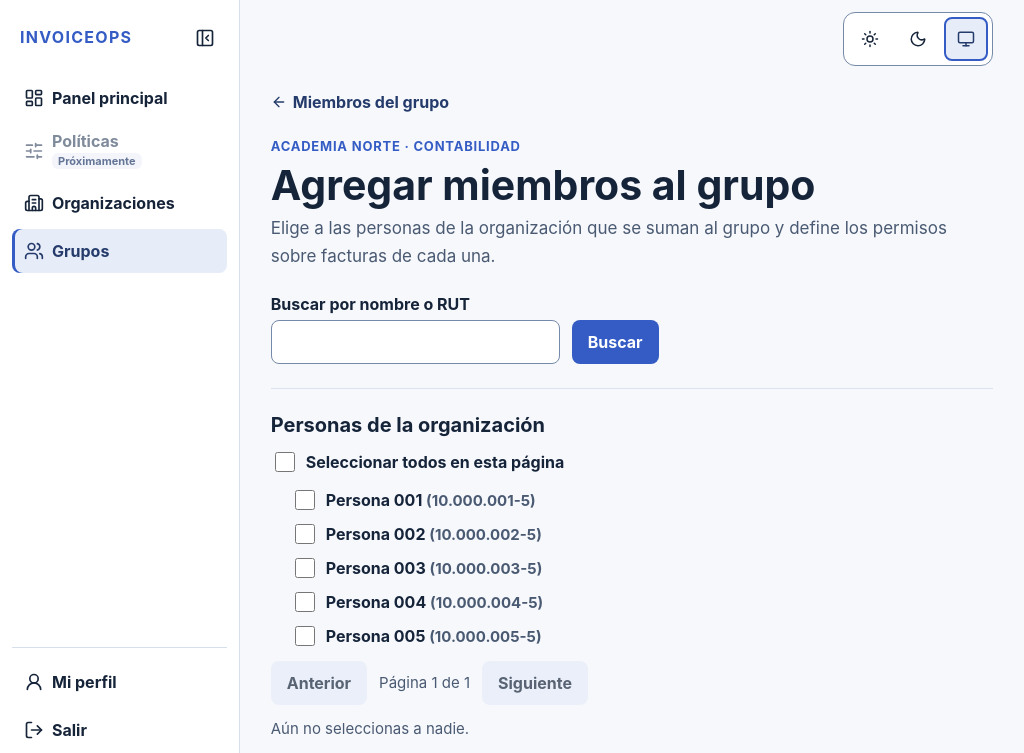
Test: AddMembersForm pre-check (CR-312/CR-313) › clears the pruned message when the selection changes
Click the checkbox labelled "Persona 001 (10.000.001-5)" at (305, 500), box [295,490,315,510]
(page scrolled)
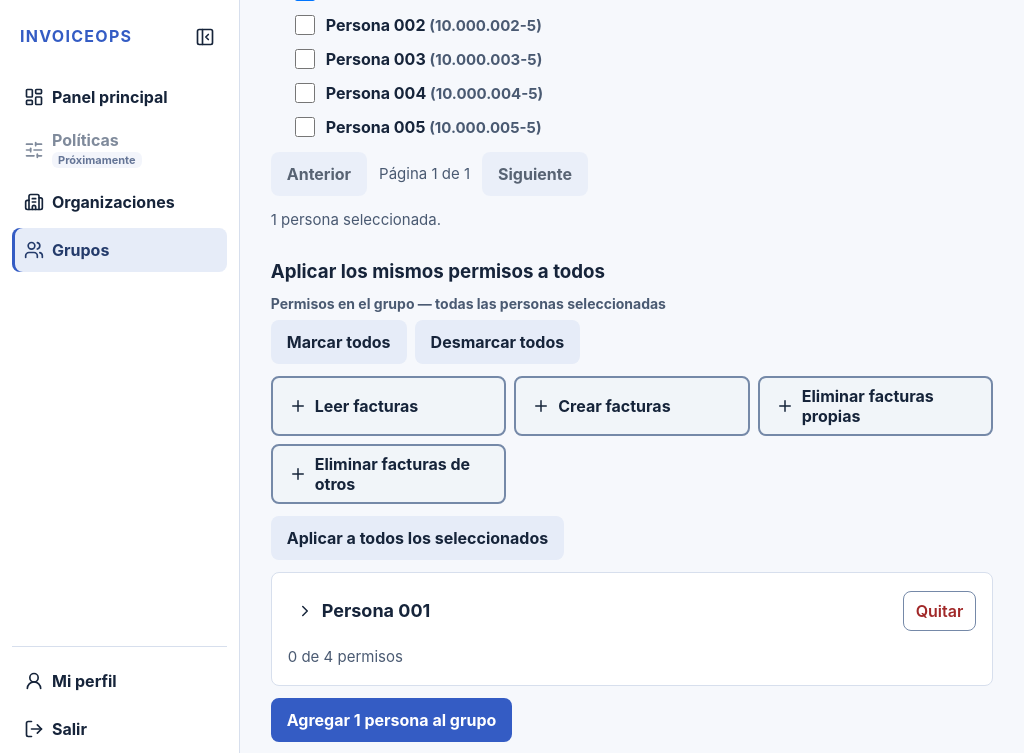
Click the button "Agregar 1 persona al grupo" at (392, 720), box [271,698,512,742]
(page scrolled)
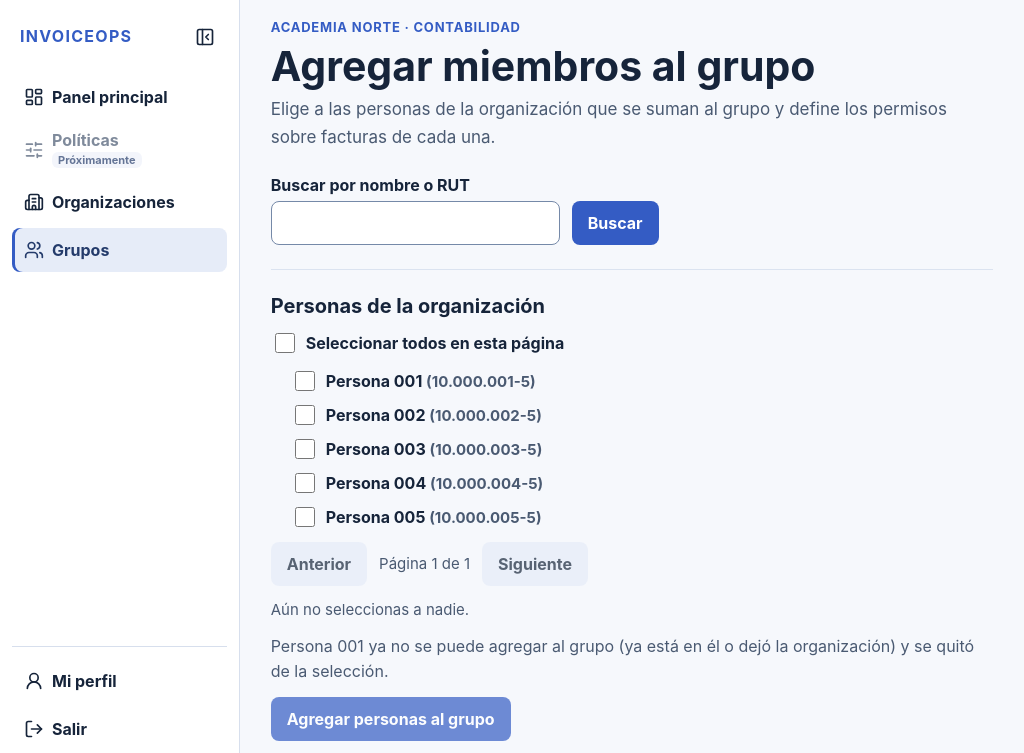
Now the text "Persona 001 ya no se puede agregar al grupo" is shown, box [271,634,993,685]
Click the checkbox labelled "Persona 002 (10.000.002-5)" at (305, 415), box [295,405,315,425]
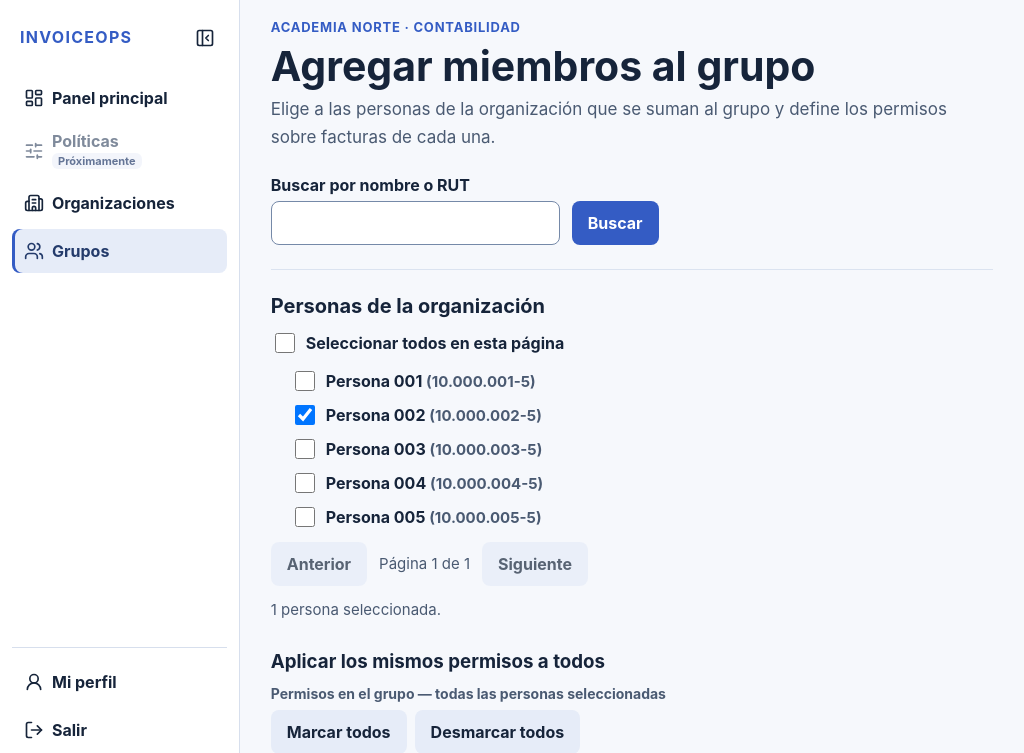
Now the text "Persona 001 ya no se puede agregar" is gone
